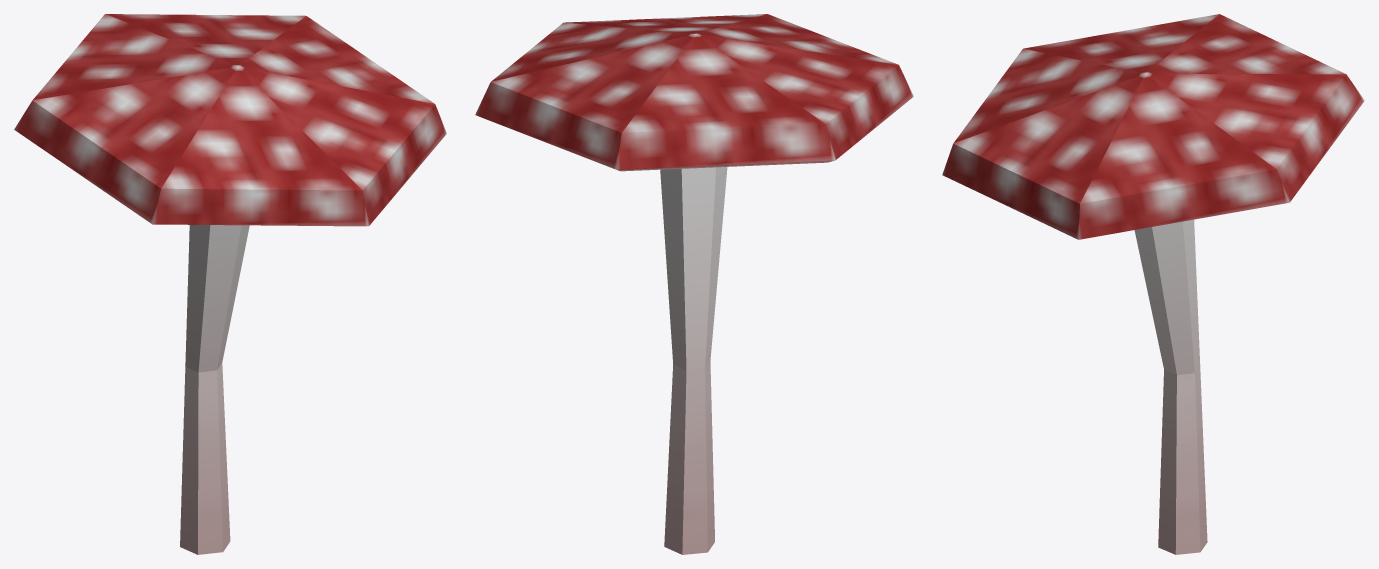
Rendered from Colony_Mushroom_Art.fbx.
3 views of the same model, side by side, from view 1: azimuth 30°, elevation 25°; view 2: azimuth 150°, elevation 25°; view 3: azimuth 270°, elevation 25° (orthographic). The views are drawn at different scales.
Parts seen in each view (by area): view 1: Colony_Mushroom_Art; view 2: Colony_Mushroom_Art; view 3: Colony_Mushroom_Art.
Boxes of the visible parts, x1,y1,x2,y2 form: Colony_Mushroom_Art: (14, 14, 446, 554); Colony_Mushroom_Art: (475, 14, 913, 554); Colony_Mushroom_Art: (942, 14, 1364, 554).
Bounding box in the file's own units: 71.22 × 93.35 × 74.8.
